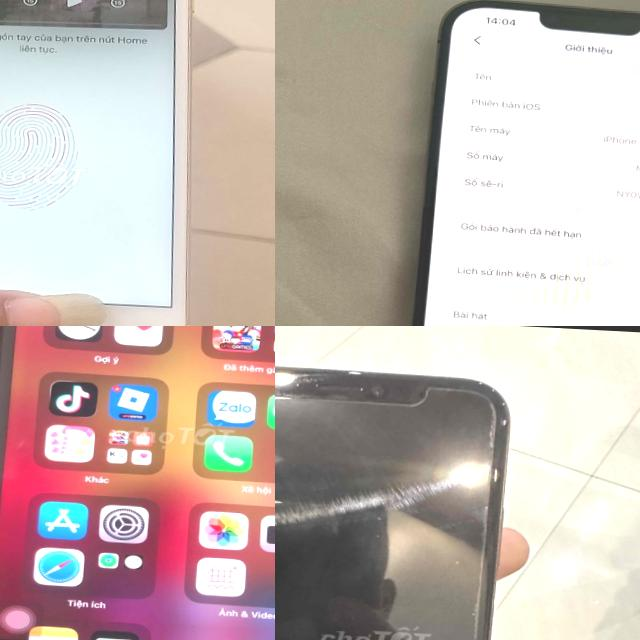gen_12_13: (398, 0, 640, 326)
gen_7_8: (0, 326, 275, 640), (0, 0, 224, 326)
gen_x_xs: (275, 349, 535, 640)
